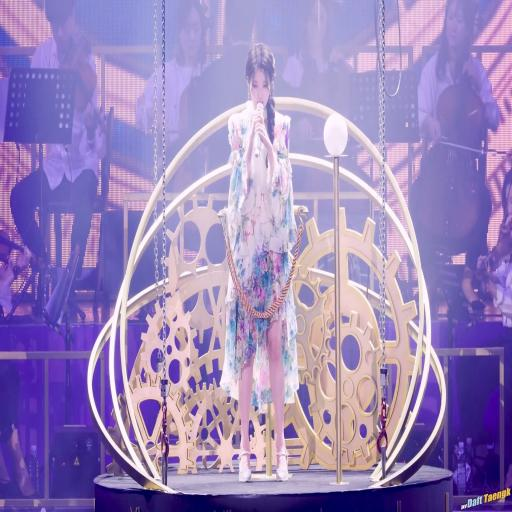IU: (245, 42, 277, 115)
